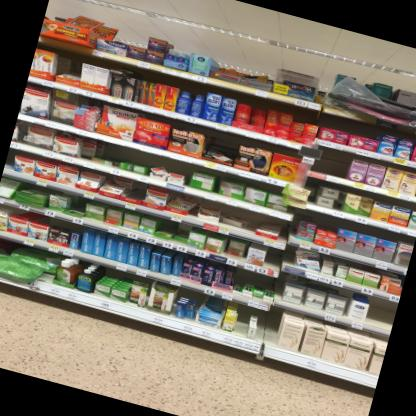empty_space: (310, 147, 348, 181), (255, 309, 280, 348), (367, 300, 397, 331)
